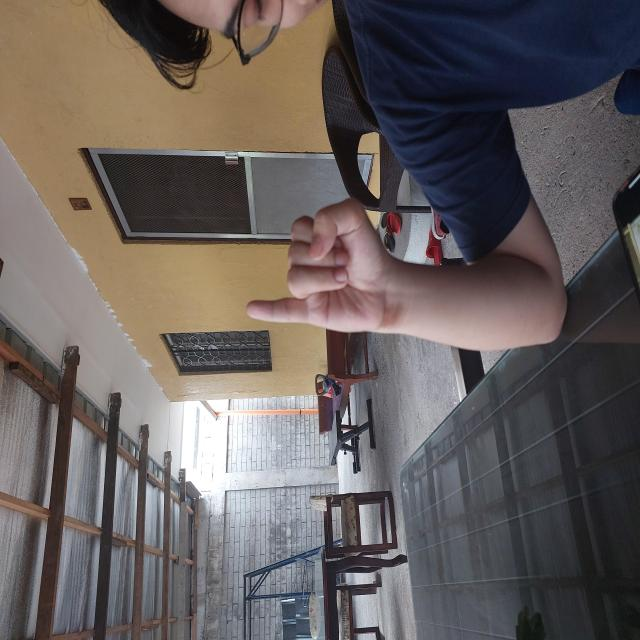I: (307, 244, 443, 394)
